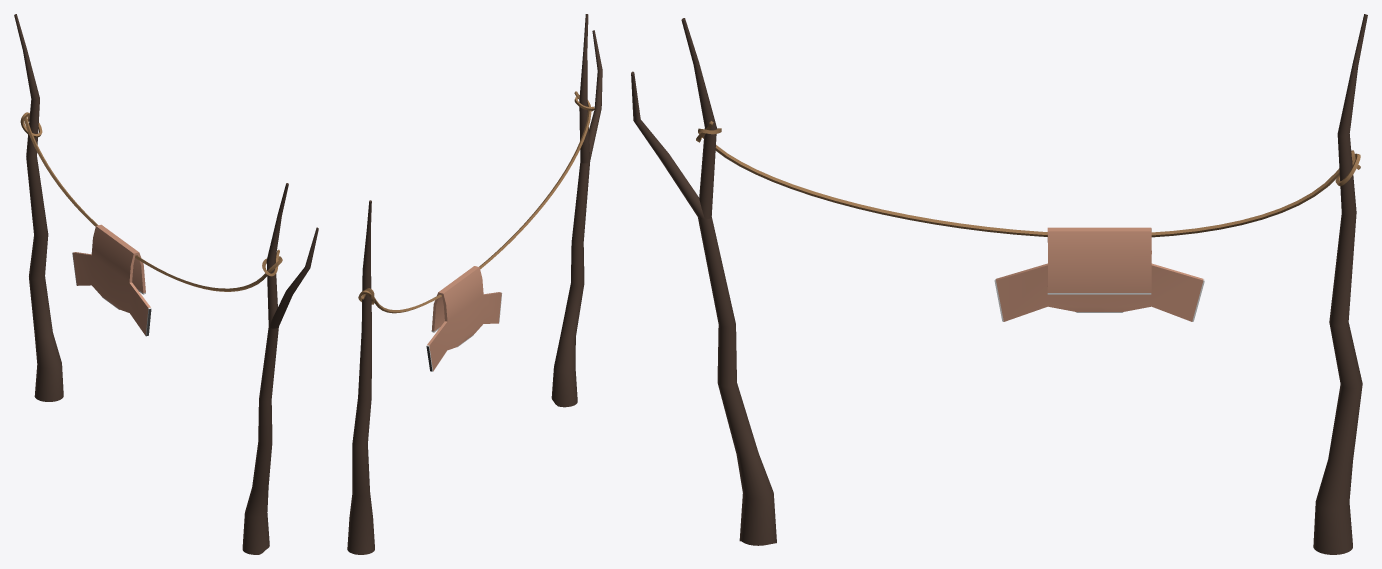
Rendered from ClothesDryer.fbx.
3 views of the same model, side by side, from view 1: azimuth 30°, elevation 25°; view 2: azimuth 150°, elevation 25°; view 3: azimuth 270°, elevation 25° (orthographic). The views are drawn at different scales.
Visible parts, largest first — view 1: Dryer; view 2: Dryer; view 3: Dryer.
Part boxes in pixels (<box>): Dryer: <box>14,14,318,554</box>; Dryer: <box>347,14,602,554</box>; Dryer: <box>631,14,1367,554</box>.
Bounding box in the file's own units: 13.14 × 129 × 163.
